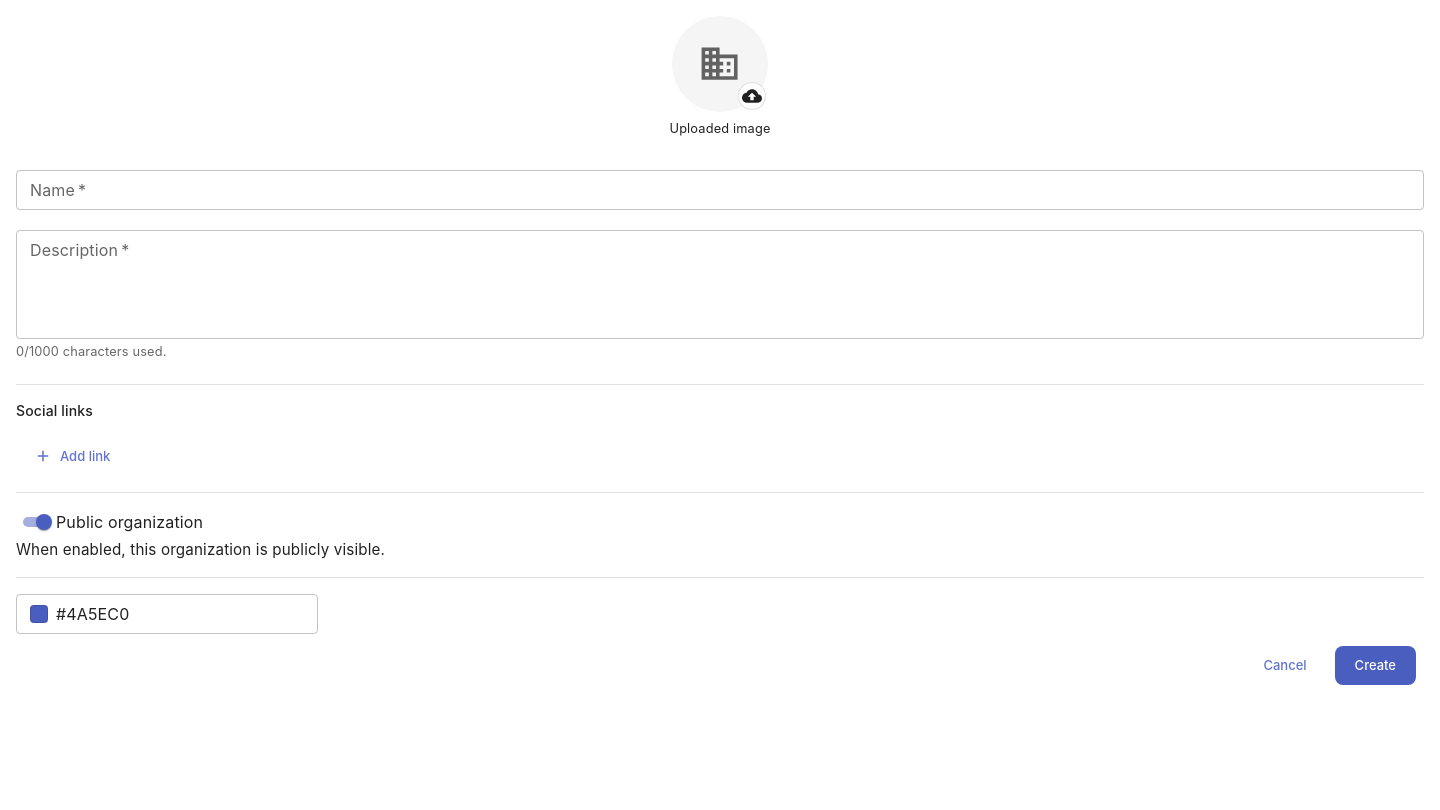
OrganizationForm › shows a live character counter and caps input at 1000 characters
Expected: the text "0/1000 characters used." is shown, [16,344,166,359]
Step 1. Type "Hello world" into the text box labelled "Description *" → [720, 284], box [30,238,1410,330]
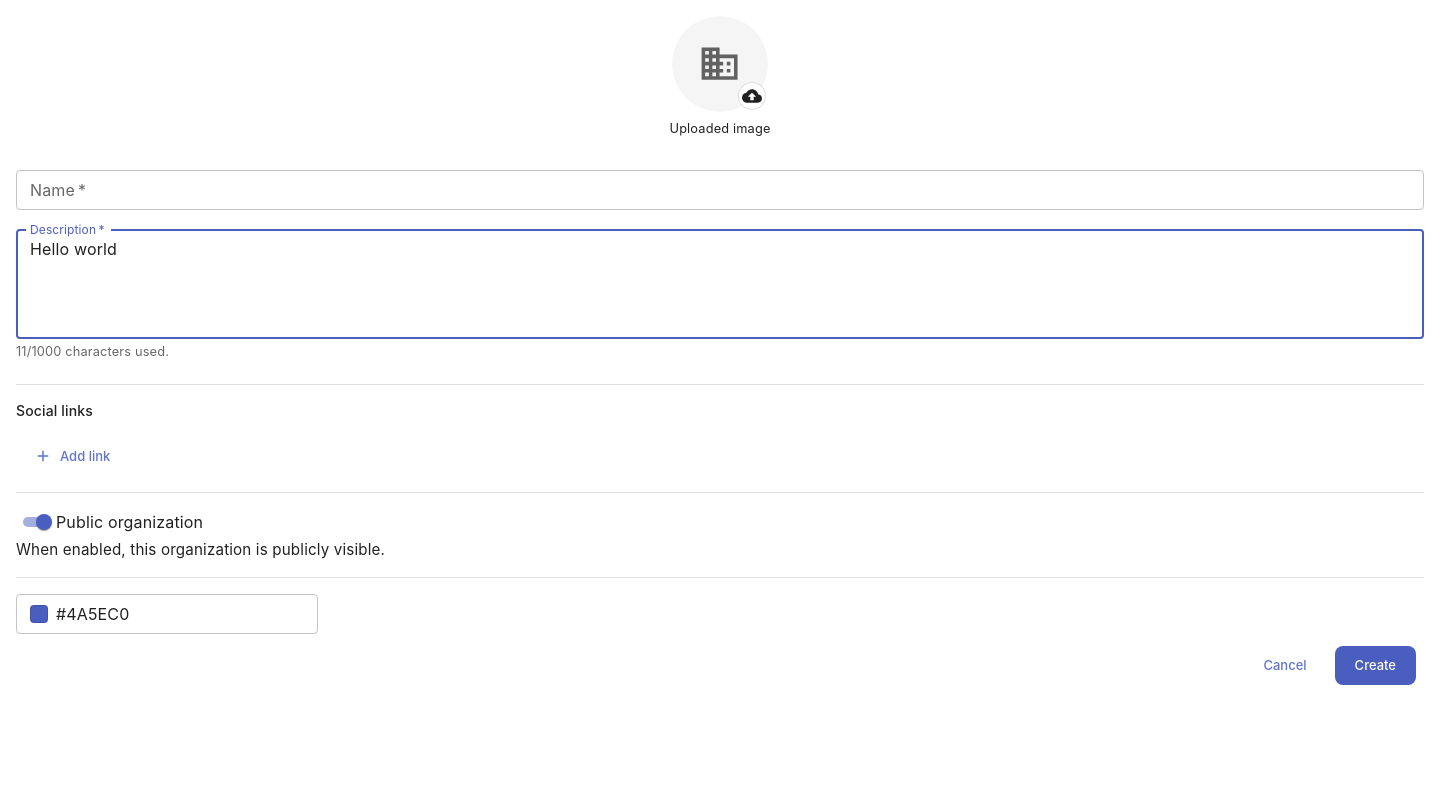
Expected: the text "11/1000 characters used." is shown, [16,344,169,359]
